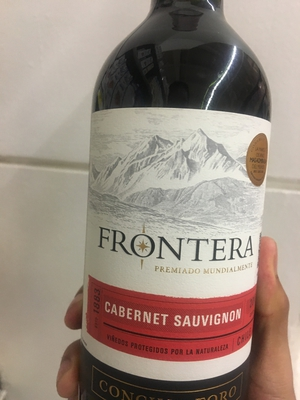frontera cabernet sauvignon: (77, 20, 276, 400)
